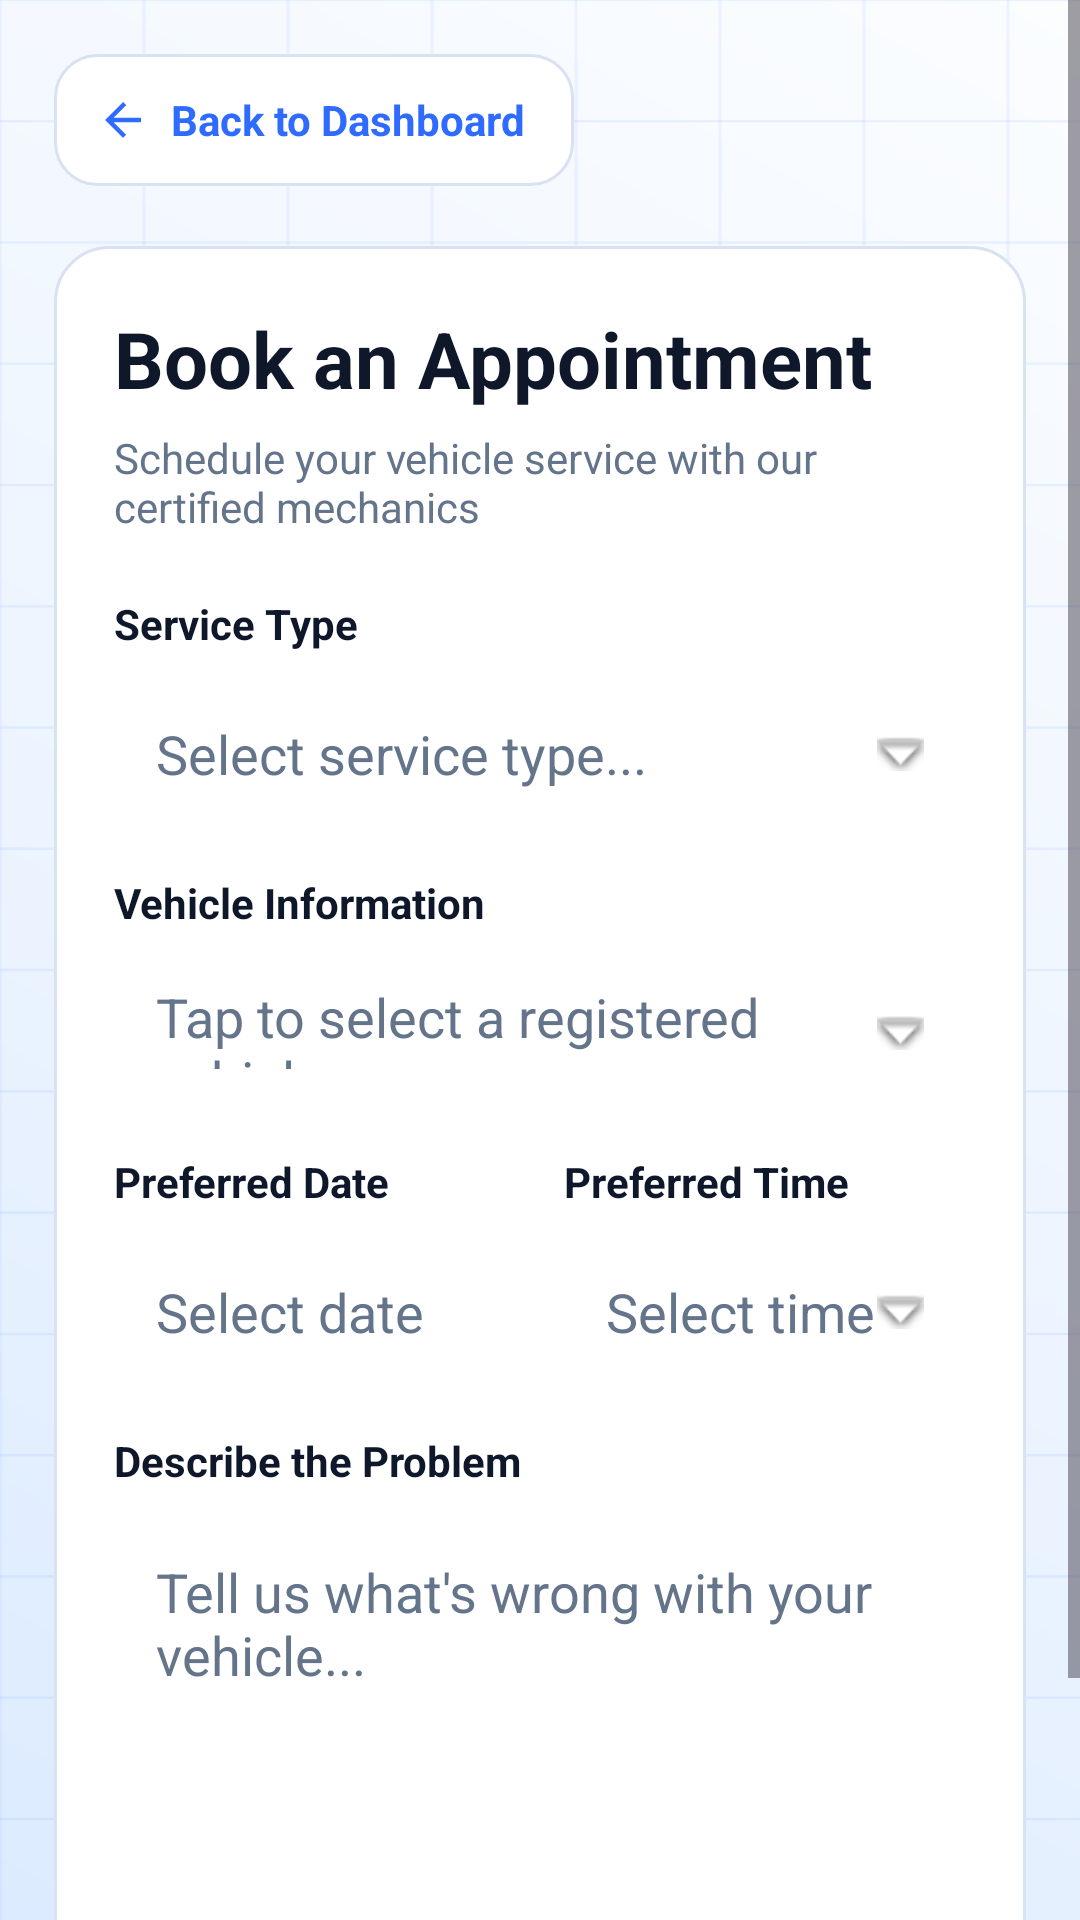

Screen size 1080px×1920px. Icon name, then its box in pixels as bbox(x1, y1, x2, y2):
arrow back: bbox(105, 102, 141, 138)
